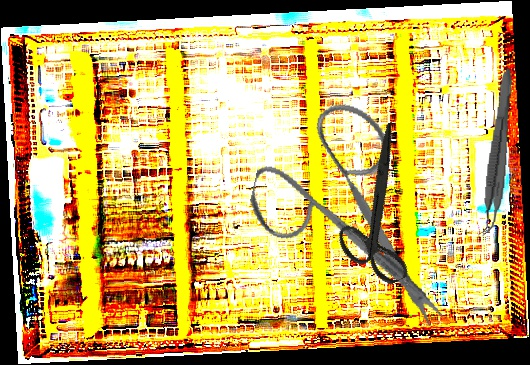Iris Scissors: (231, 87, 485, 332), (300, 120, 459, 298)
Tissue Forceps: (478, 66, 515, 240)
